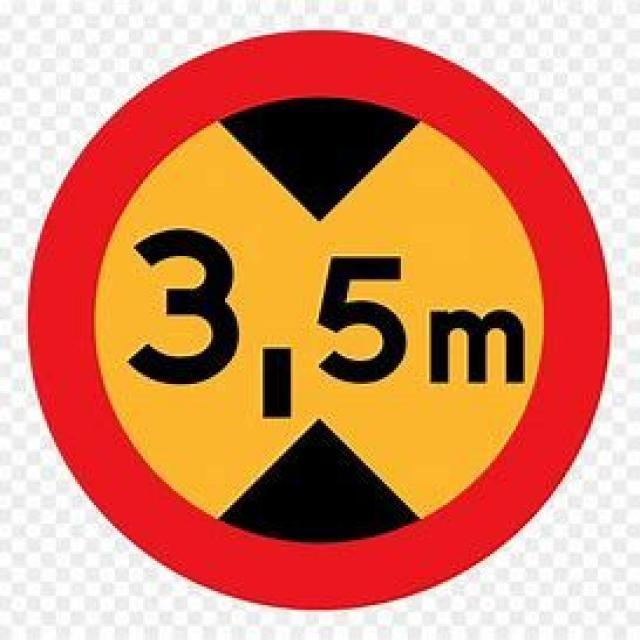height limit: (21, 27, 613, 611)
